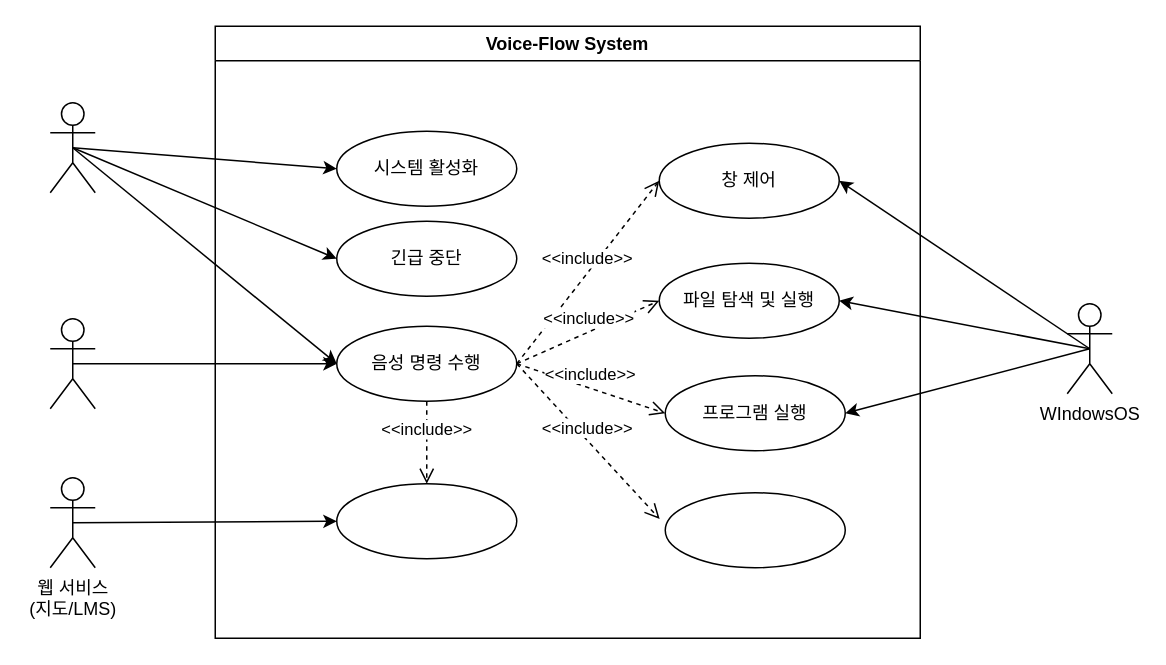
The diagram is 1166 pixels wide and 665 high, and some of its shapes have lost their labels. The shapes that lost their labels are listed below. From the top down, each one's centre as x and y in pixels, then its label:
(x=72, y=147): User
(x=72, y=363): 로컬 AI 엔진
(x=426, y=520): 웹 서비스 제어
(x=754, y=529): 텍스트 입력
